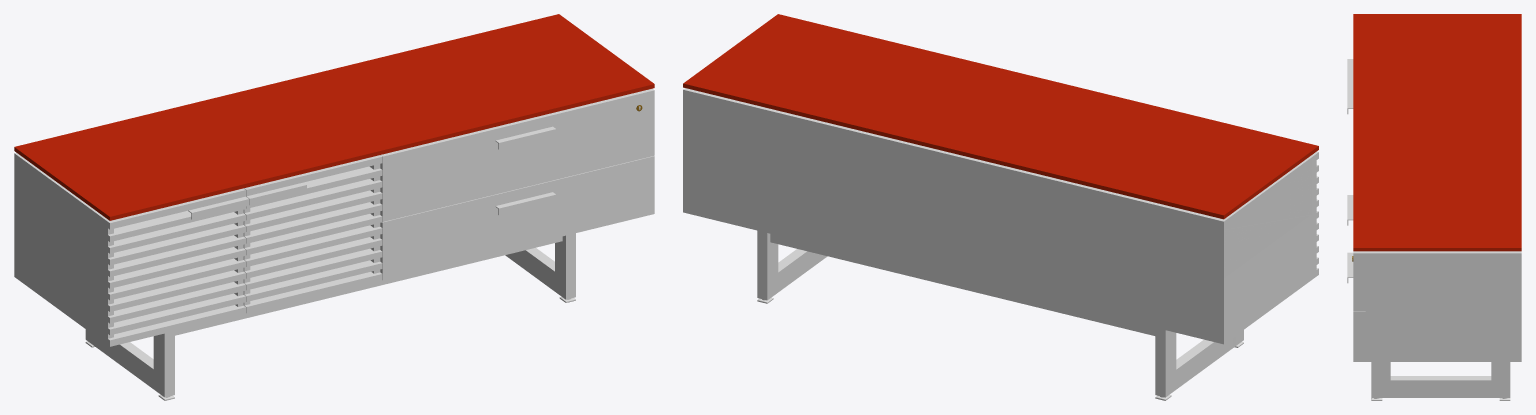
File: credenza.glb
3 views of the same model, side by side, from view 1: azimuth 30°, elevation 25°; view 2: azimuth 150°, elevation 25°; view 3: azimuth 270°, elevation 25° (orthographic). The views are drawn at different scales.
Parts seen in each view (by area): view 1: Cube.063, Cube.061, Cube.058, Cube.060, Cube.062; view 2: Cube.063, Cube.058; view 3: Cube.063, Cube.061, Cube.062, Cube.060, Cube.058.
Part boxes in pixels (bbox=[...]): Cube.063: bbox=[14, 14, 654, 400]; Cube.061: bbox=[380, 88, 654, 221]; Cube.058: bbox=[103, 188, 249, 346]; Cube.060: bbox=[243, 155, 382, 313]; Cube.062: bbox=[380, 156, 654, 280]; Cube.063: bbox=[683, 14, 1318, 400]; Cube.058: bbox=[1310, 151, 1318, 279]; Cube.063: bbox=[1353, 14, 1521, 400]; Cube.061: bbox=[1347, 195, 1365, 310]; Cube.062: bbox=[1347, 252, 1365, 361]; Cube.060: bbox=[1347, 83, 1353, 114]; Cube.058: bbox=[1347, 59, 1353, 83].
Size of the model in its own units: 4.95 by 1.8 by 1.56.
